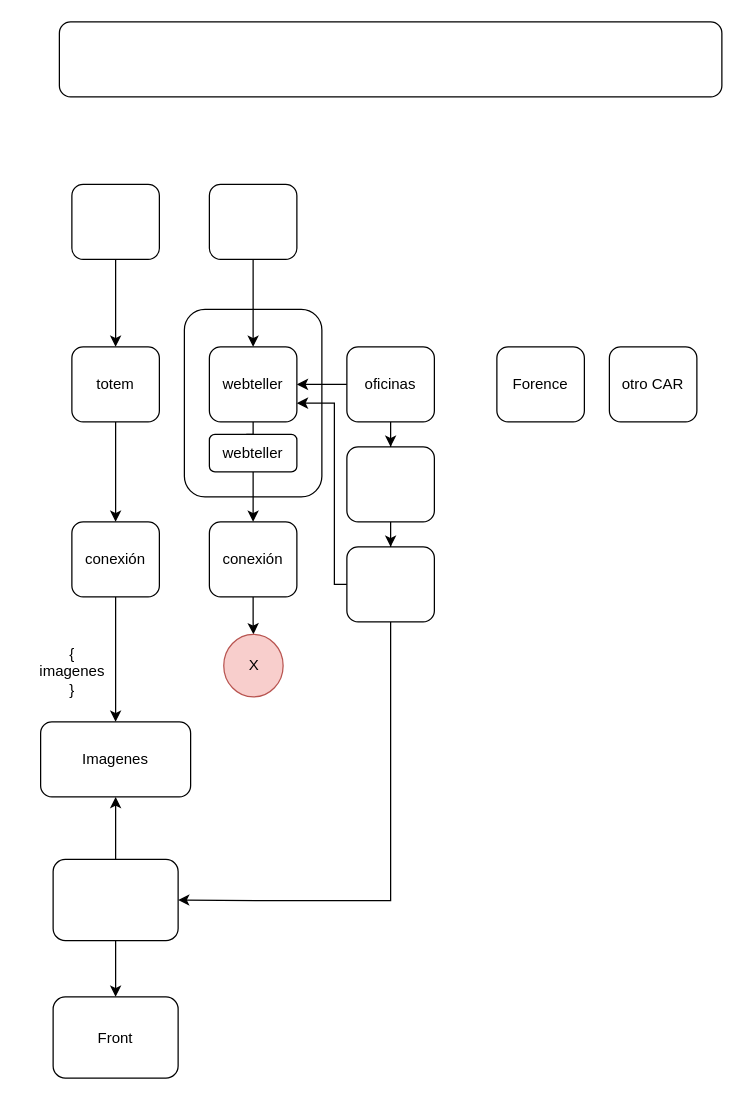
Image size: 744x1100. Some labels were removed from this diagram. The shapes that lost their labels are listed below. From the top down, each one's box as (x1, y1, x2, y2) in pixels, then its label:
(58, 21, 722, 97): Canje
(71, 183, 159, 259): cajeros
(208, 183, 297, 259): empresas
(346, 446, 434, 522): Mecanismo
(346, 546, 434, 622): poc ANF
(52, 858, 178, 941): nube(banco docia)
